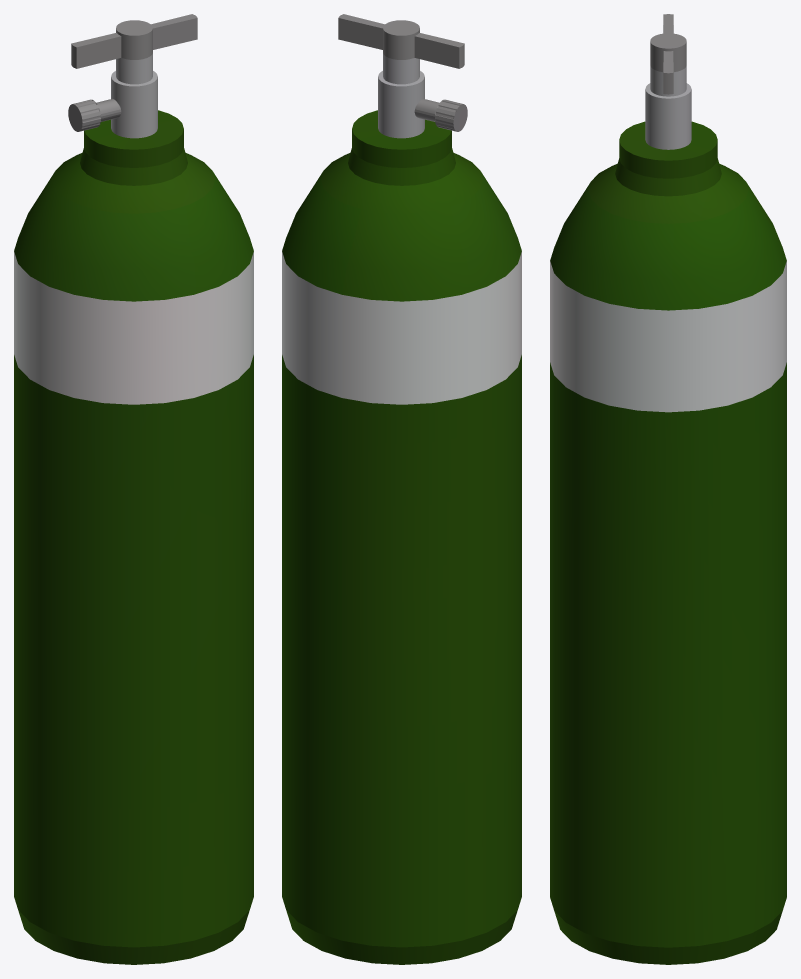
The model's file is oxygenTank.fbx.
3 views of the same model, side by side, from view 1: azimuth 30°, elevation 25°; view 2: azimuth 150°, elevation 25°; view 3: azimuth 270°, elevation 25° (orthographic).
Parts seen in each view (by area): view 1: oxygenTank; view 2: oxygenTank; view 3: oxygenTank.
Boxes of the visible parts, bbox=[...] form: oxygenTank: bbox=[14, 14, 253, 964]; oxygenTank: bbox=[282, 14, 521, 964]; oxygenTank: bbox=[550, 14, 786, 964].
Bounding box in the file's own units: 924 × 3777 × 924.
